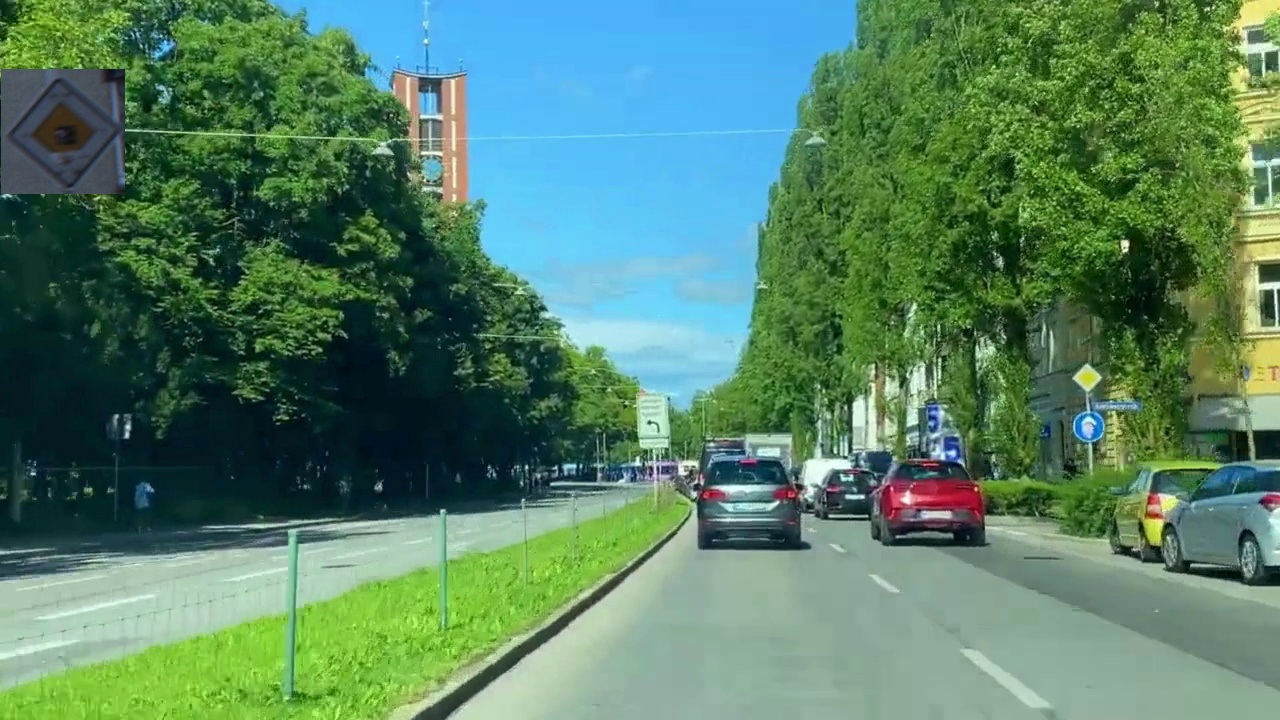Priority road: (1, 69, 125, 194)
